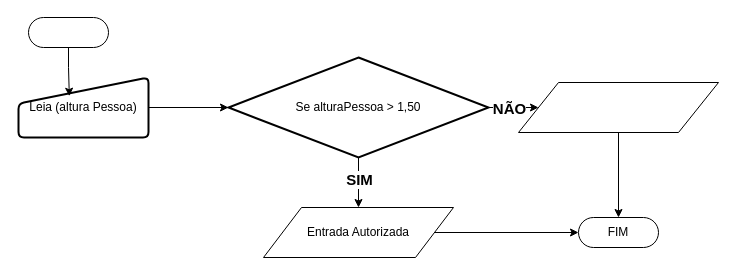
Some shapes in this 736 by 275 pixel diagram are drawn without their labels. The shapes that lost their labels are listed below. From the top down, each one's box as (x1, y1, x2, y2) in pixels, then its label:
(28, 16, 108, 48): Inicio
(518, 82, 718, 132): Tente Novamente no ano seguinte
